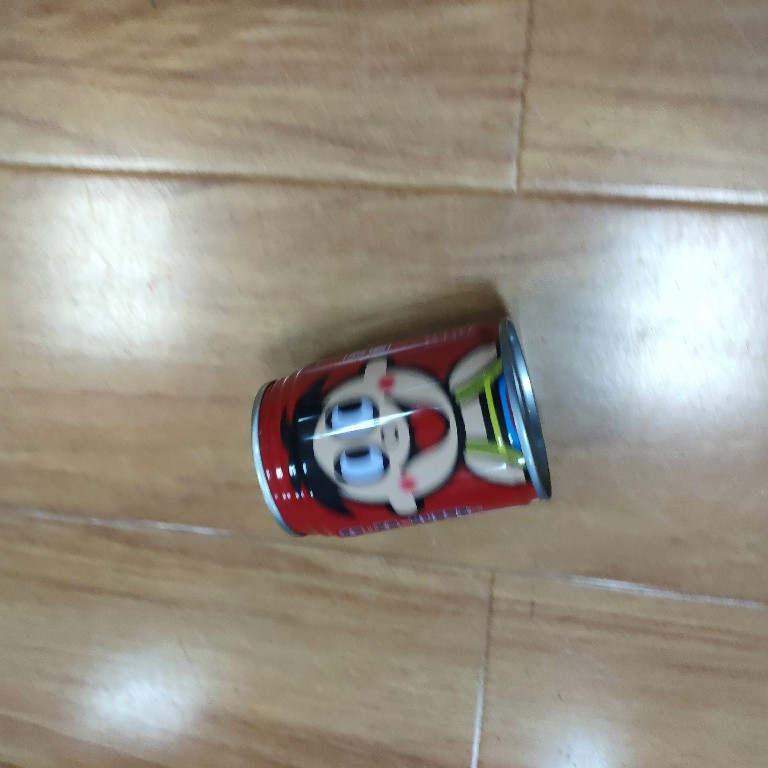can: (244, 308, 557, 544)
